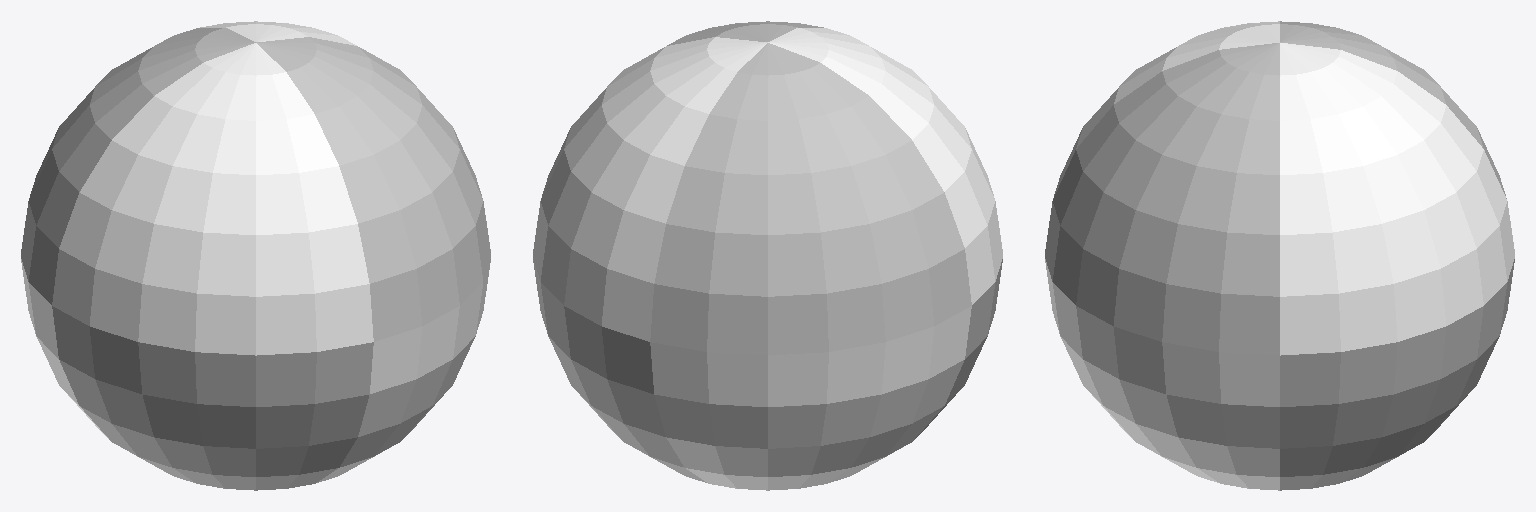
The picture shows the model from 3 angles: view 1: azimuth 30°, elevation 25°; view 2: azimuth 150°, elevation 25°; view 3: azimuth 270°, elevation 25°; orthographic projection.
Visible parts, largest first — view 1: entity0_brush2, entity0_brush0, entity0_brush3, entity0_brush6, entity0_brush1, entity0_brush4, entity0_brush7; view 2: entity0_brush6, entity0_brush4, entity0_brush7, entity0_brush2, entity0_brush5, entity0_brush0, entity0_brush3; view 3: entity0_brush3, entity0_brush7, entity0_brush1, entity0_brush5, entity0_brush2, entity0_brush6.
Boxes of the visible parts, <box> form: entity0_brush2: <box>52,43,373,355</box>; entity0_brush0: <box>52,306,373,490</box>; entity0_brush3: <box>256,37,490,341</box>; entity0_brush6: <box>21,28,255,304</box>; entity0_brush1: <box>317,259,490,482</box>; entity0_brush4: <box>21,259,108,438</box>; entity0_brush7: <box>200,21,356,45</box>; entity0_brush6: <box>650,43,971,355</box>; entity0_brush4: <box>650,306,971,490</box>; entity0_brush7: <box>533,37,767,341</box>; entity0_brush2: <box>768,28,1002,304</box>; entity0_brush5: <box>533,259,706,482</box>; entity0_brush0: <box>915,259,1002,438</box>; entity0_brush3: <box>667,21,823,45</box>; entity0_brush3: <box>1045,43,1279,355</box>; entity0_brush7: <box>1280,43,1514,355</box>; entity0_brush1: <box>1045,259,1279,490</box>; entity0_brush5: <box>1280,259,1514,490</box>; entity0_brush2: <box>1053,21,1279,198</box>; entity0_brush6: <box>1280,21,1506,198</box>.
Size of the model in its own units: 32 by 32 by 32.
2 materials, 1 textured.